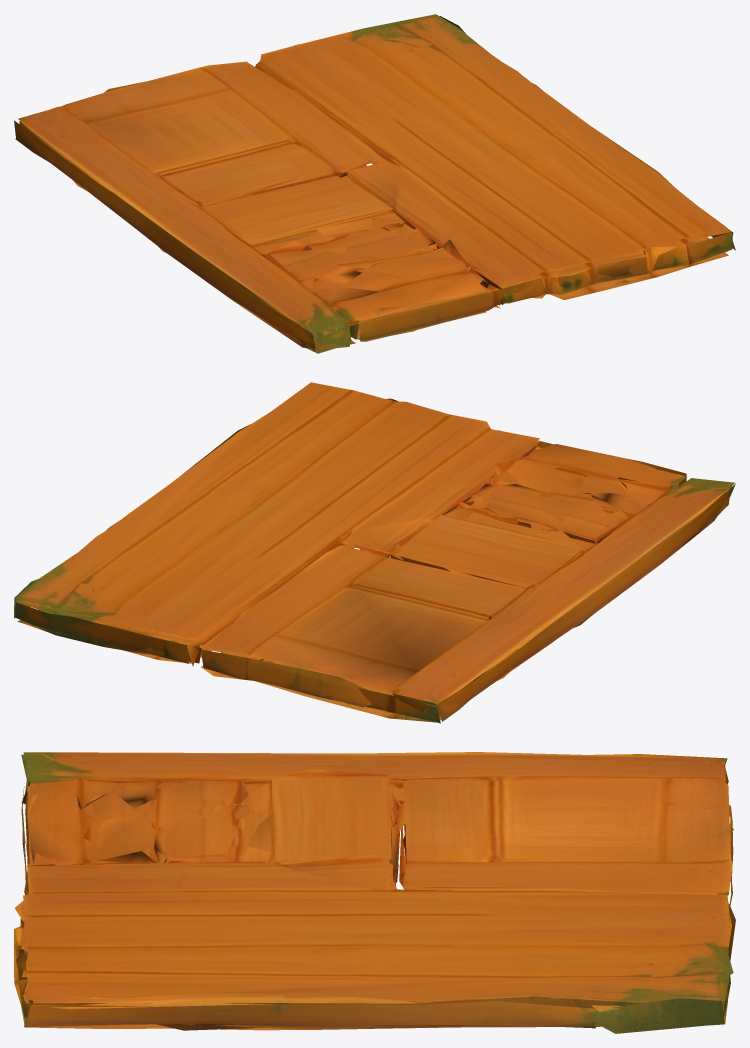
File: forest-boardwalk-lod.glb
3 views of the same model, one above another, from view 1: azimuth 30°, elevation 25°; view 2: azimuth 150°, elevation 25°; view 3: azimuth 270°, elevation 25° (orthographic). The views are drawn at different scales.
Visible parts, largest first — view 1: world; view 2: world; view 3: world.
Part boxes in pixels (bbox=[...]): world: bbox=[14, 14, 735, 353]; world: bbox=[14, 382, 735, 723]; world: bbox=[14, 752, 735, 1033].
Bounding box in the file's own units: 0.7995 × 0.0724 × 0.9733.
Materials: 1 (1 with a texture image).
